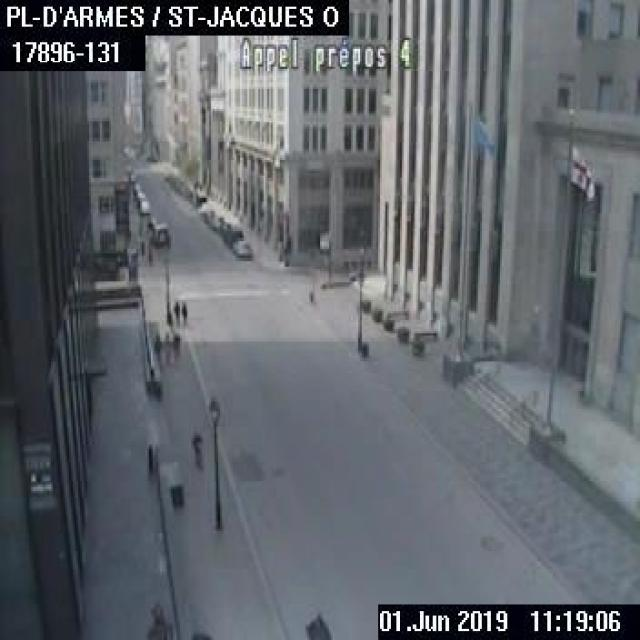pedestrian: (189, 431, 202, 467), (150, 332, 161, 364), (160, 331, 170, 364), (170, 332, 180, 361), (170, 300, 178, 326), (180, 299, 186, 326)
vehicle: (221, 223, 242, 245), (151, 221, 169, 244), (230, 236, 251, 255), (139, 197, 149, 213)
